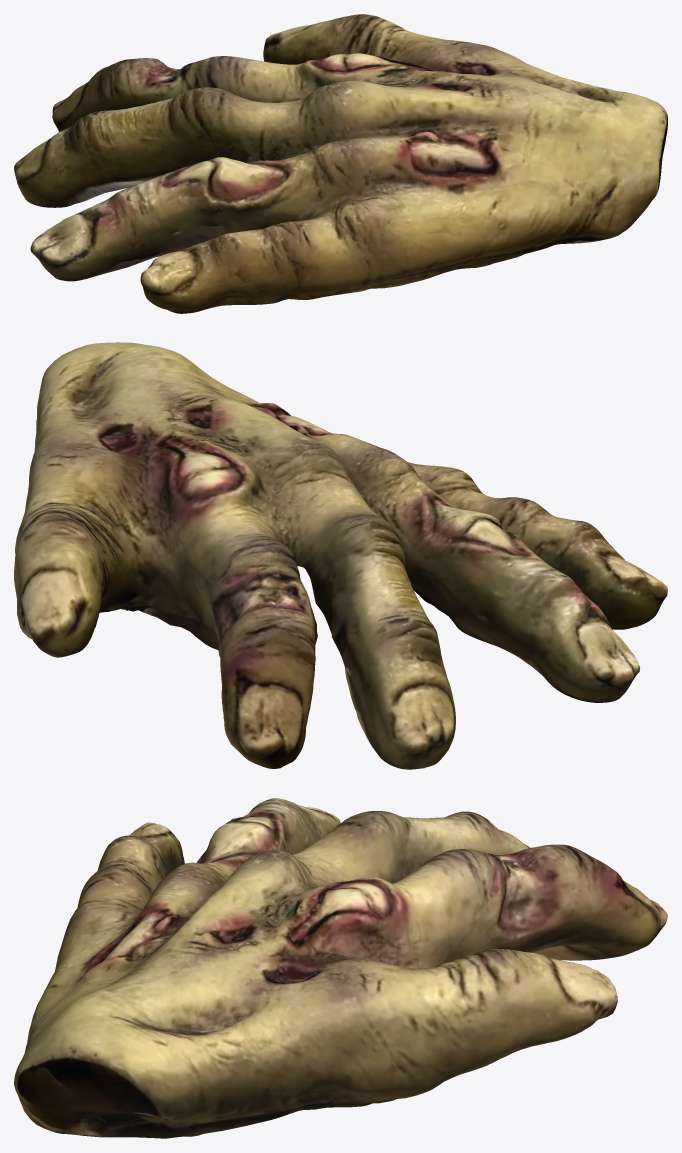
The model's file is zombie_hand.optimized.glb.
3 renders of one model, top to bottom at view 1: azimuth 30°, elevation 25°; view 2: azimuth 150°, elevation 25°; view 3: azimuth 270°, elevation 25°, orthographic. The views are drawn at different scales.
Visible parts, largest first — view 1: Object_4; view 2: Object_4; view 3: Object_4.
Boxes of the visible parts, x1=… form: Object_4: x1=14, y1=14, x2=667, y2=313; Object_4: x1=14, y1=342, x2=667, y2=769; Object_4: x1=14, y1=798, x2=667, y2=1138.
Bounding box in the file's own units: 2 × 0.4803 × 1.65.
Materials: 1 (1 with a texture image).
